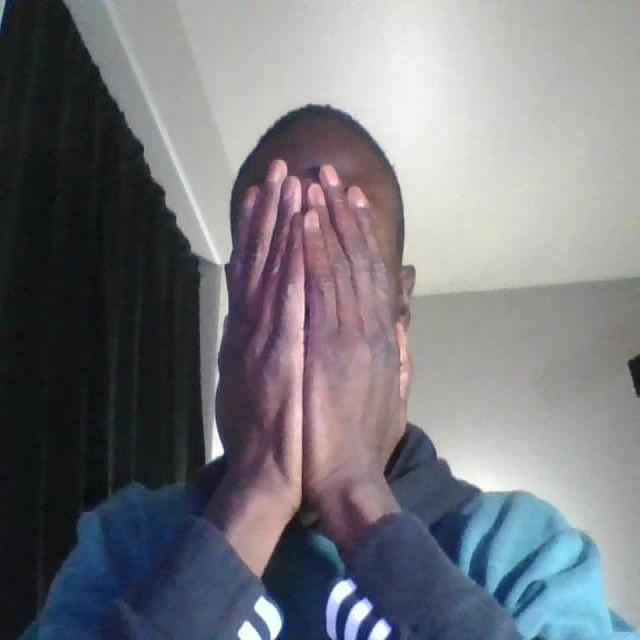no hat: (232, 95, 404, 258)
